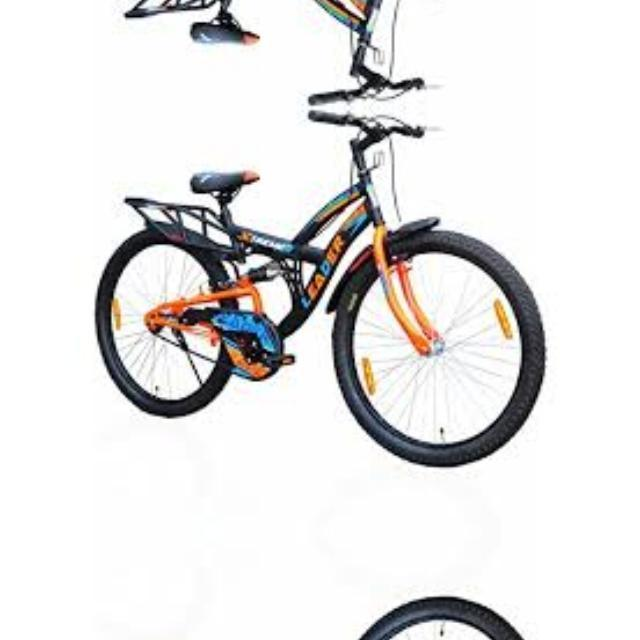obstacle: (72, 107, 560, 457), (72, 0, 560, 107), (72, 606, 560, 640)
